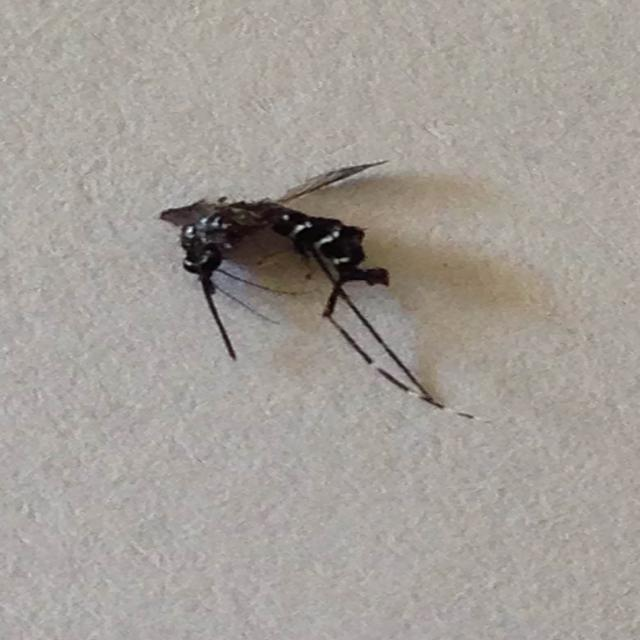albopictus: (146, 153, 482, 424)
